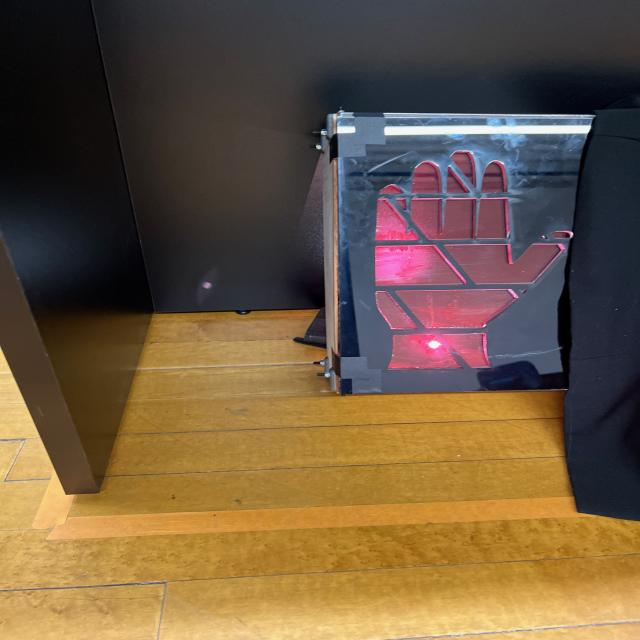stop: (337, 113, 566, 381)
